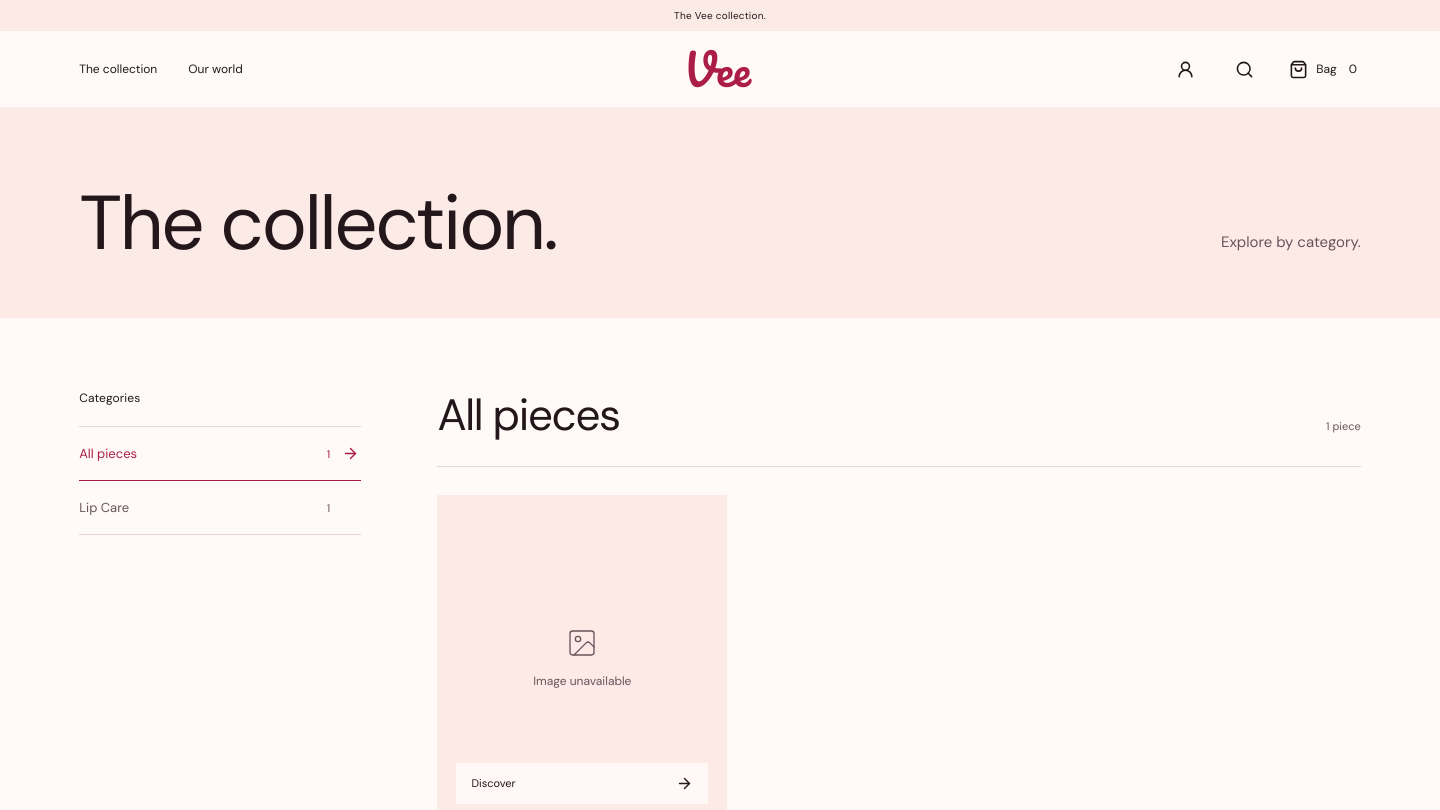
Test: opens search inline instead of as a dialog
Click the button named "Search the collection": click(1244, 69) [1222, 47, 1266, 91]
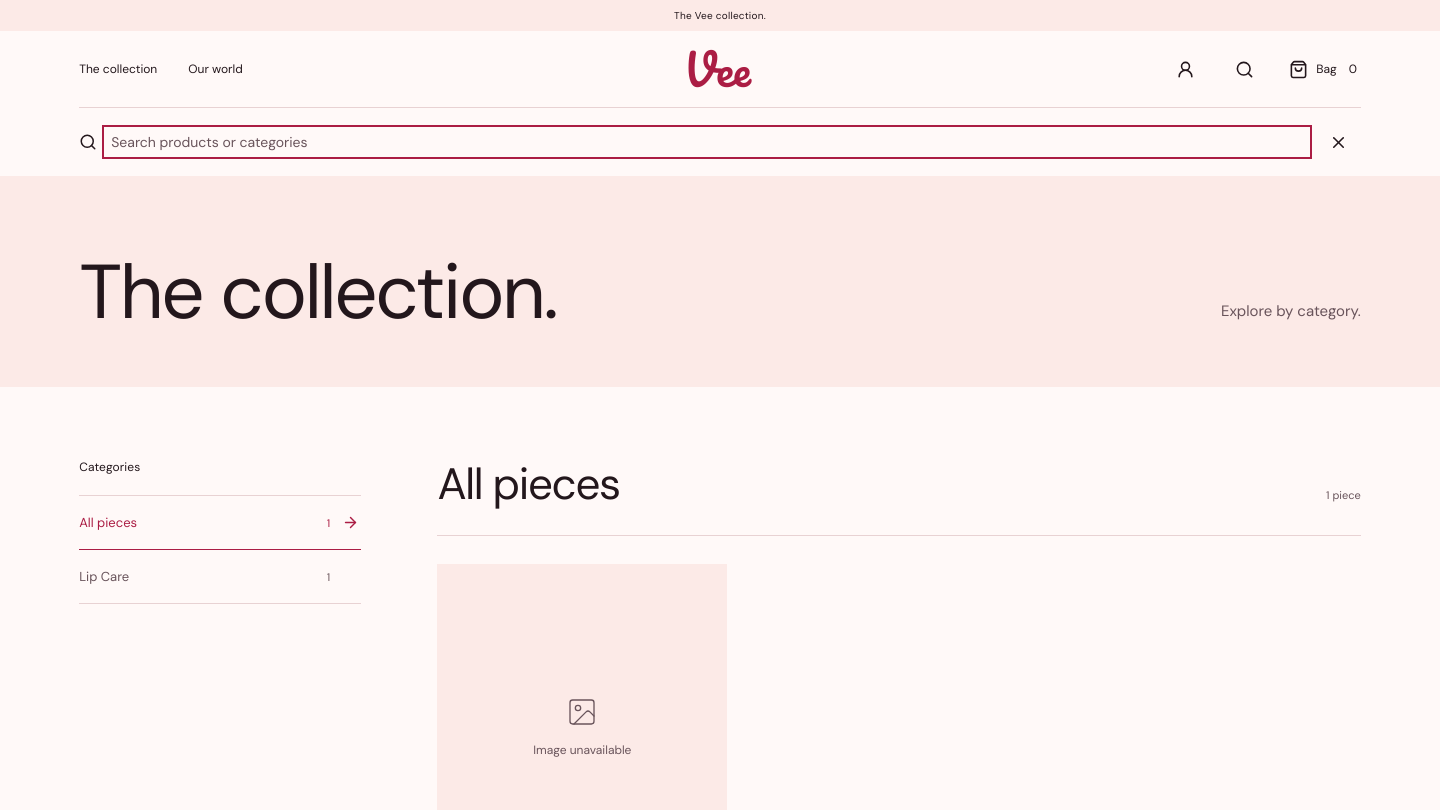
Result: the form is shown at [79, 107, 1361, 176]
Result: the field named "Search the collection" is shown at [109, 132, 1305, 152]
